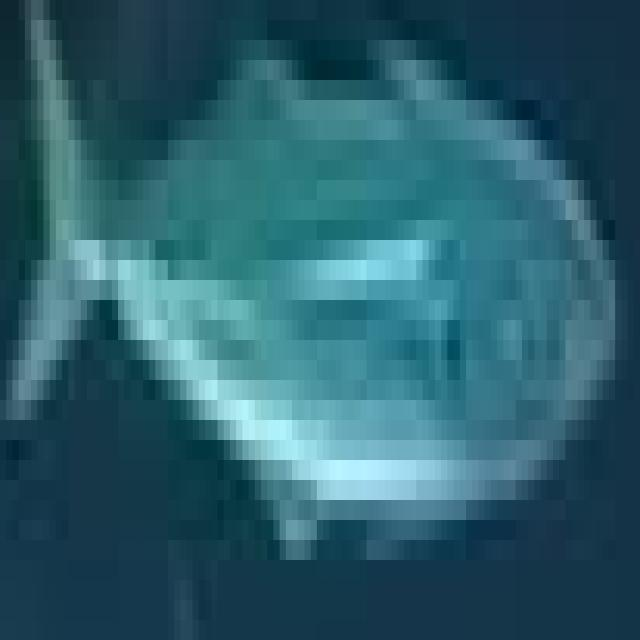fish: (0, 0, 634, 620)
